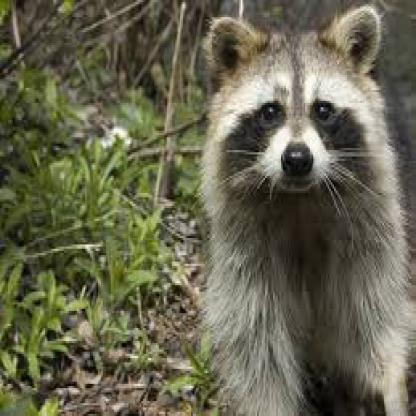raccoon: (200, 4, 416, 416)
